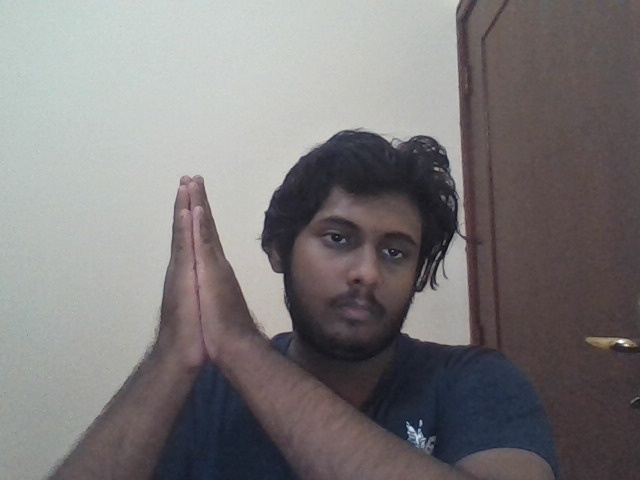namaste: (159, 175, 253, 363)
